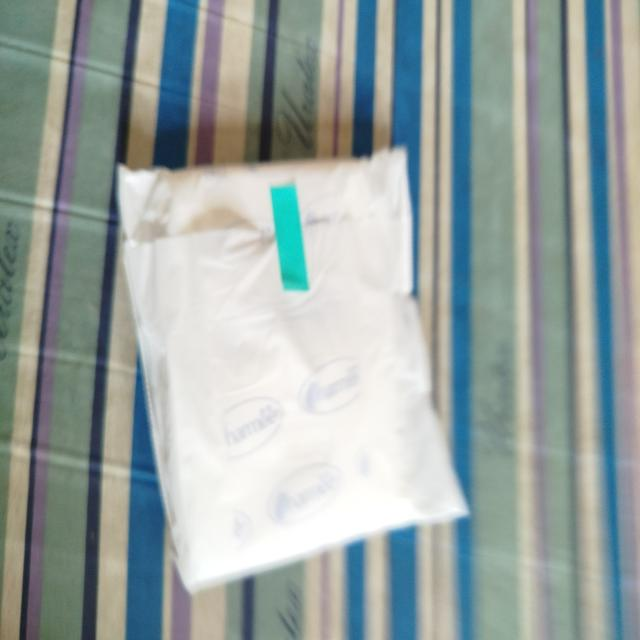residual: (108, 134, 486, 590)
